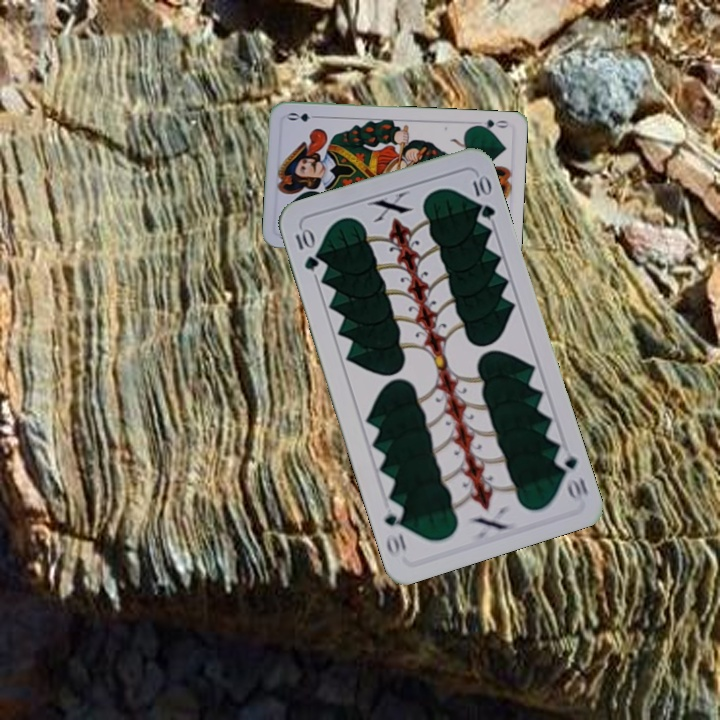G10: (551, 444, 591, 502), (291, 224, 322, 273)
GO: (471, 115, 511, 133)
